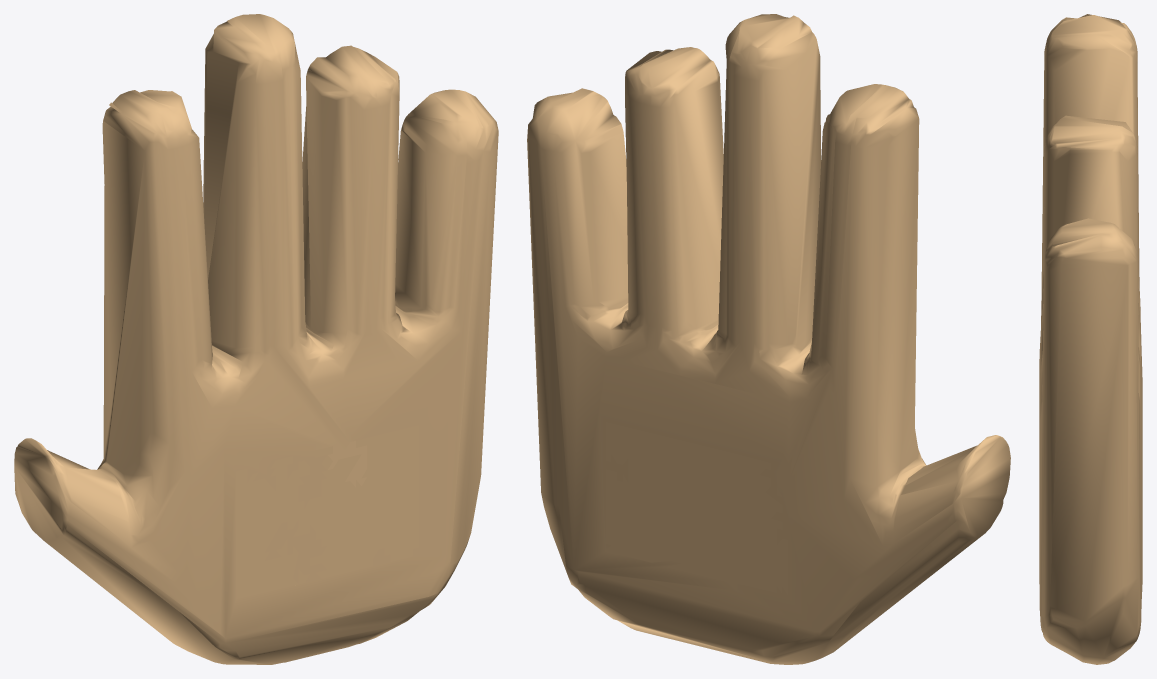
Rendered from hand_l.glb.
3 renders of one model, left to right at view 1: azimuth 30°, elevation 25°; view 2: azimuth 150°, elevation 25°; view 3: azimuth 270°, elevation 25°, orthographic. The views are drawn at different scales.
Visible parts, largest first — view 1: hand; view 2: hand; view 3: hand.
Boxes of the visible parts, x1=… form: hand: x1=14, y1=14, x2=498, y2=664; hand: x1=527, y1=14, x2=1010, y2=664; hand: x1=1039, y1=14, x2=1142, y2=664.
Bounding box in the file's own units: 2.46 × 3.33 × 0.5327.
